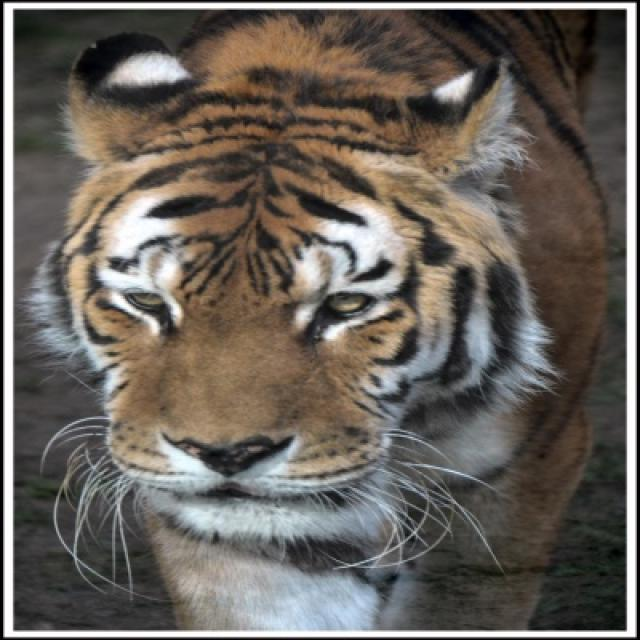Tiger: (59, 63, 538, 561)
